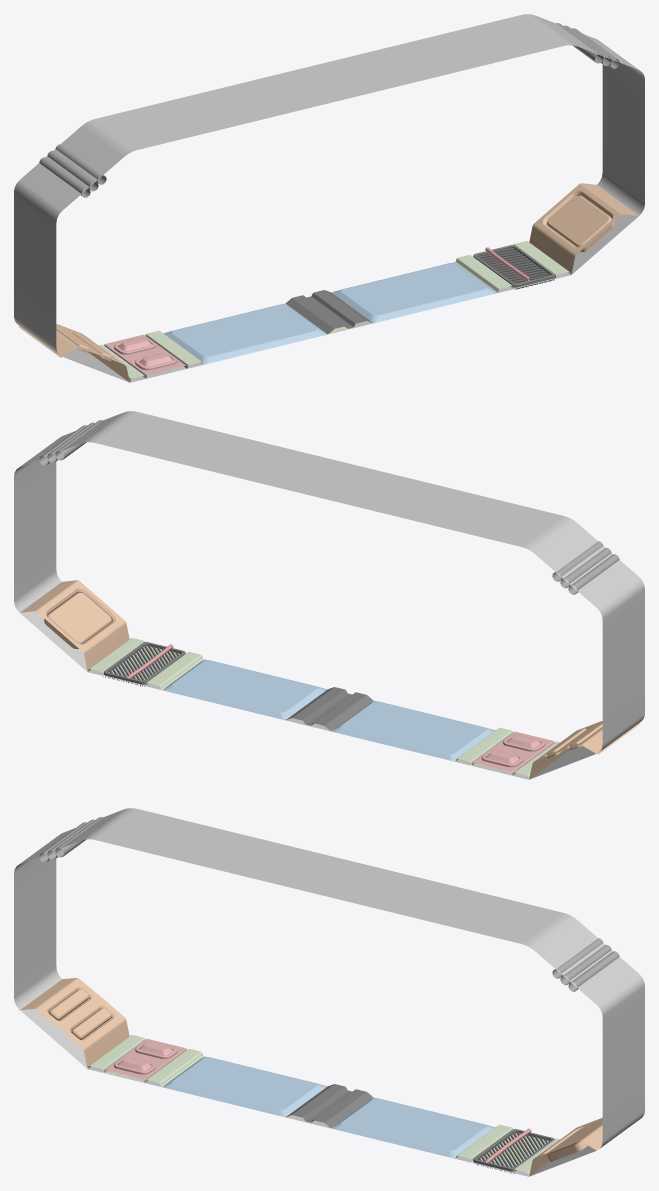
File: MOD_1a.fbx
The picture shows the model from 3 angles, top to bottom: view 1: azimuth 30°, elevation 25°; view 2: azimuth 150°, elevation 25°; view 3: azimuth 330°, elevation 25°; orthographic projection.
Parts seen in each view (by area): view 1: MOD_1a; view 2: MOD_1a; view 3: MOD_1a.
Part boxes in pixels (x1,y1,x2,y2): MOD_1a: (14,14,644,382); MOD_1a: (14,411,644,779); MOD_1a: (14,808,644,1176).
Size of the model in its own units: 8 by 3.03 by 1.
